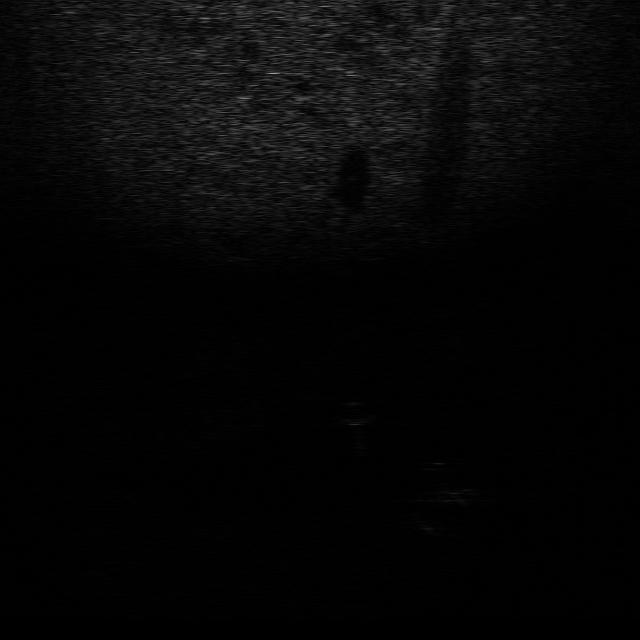ball: (329, 398, 380, 428)
metal bucket: (400, 508, 456, 540)
tyre: (419, 458, 481, 509)
